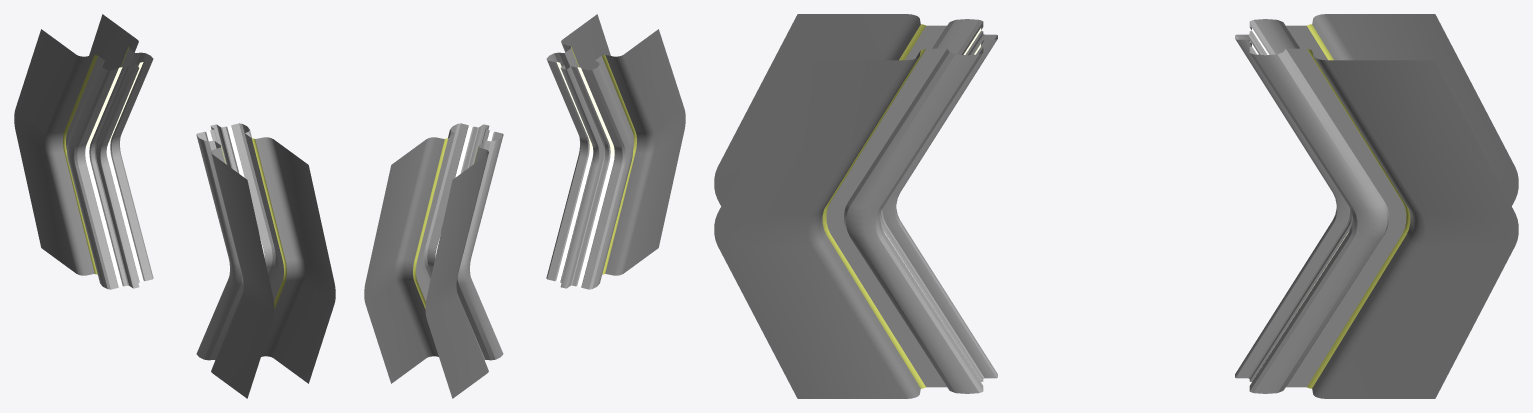
Rendered from Menu_MainMenuFrame_Mesh.fbx.
3 views of the same model, side by side, from view 1: azimuth 30°, elevation 25°; view 2: azimuth 150°, elevation 25°; view 3: azimuth 270°, elevation 25° (orthographic). The views are drawn at different scales.
Parts seen in each view (by area): view 1: Frame; view 2: Frame; view 3: Frame.
Boxes of the visible parts, x1,y1,x2,y2 form: Frame: (14, 14, 335, 398); Frame: (364, 14, 685, 398); Frame: (714, 14, 1518, 398).
Size of the model in its own units: 139 by 474 by 1021.
